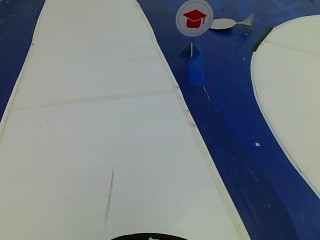school: (174, 0, 212, 38)
